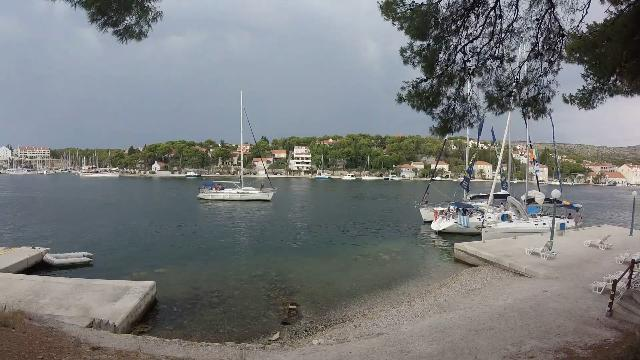Sailboat: (192, 175, 282, 205)
